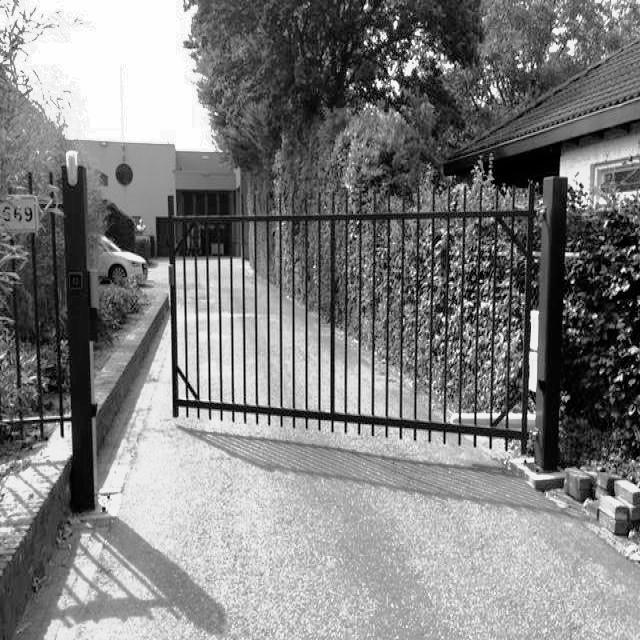fences: (170, 208, 541, 436)
